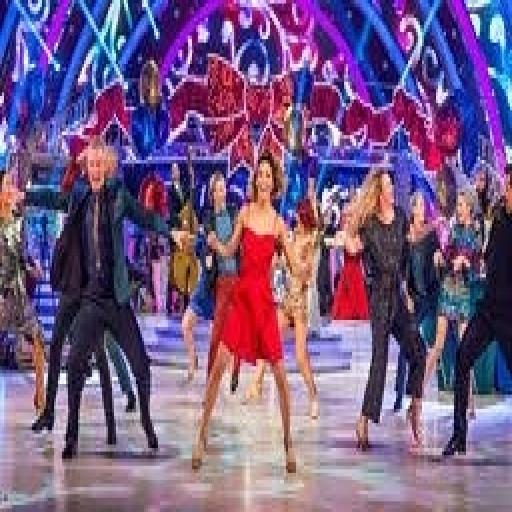dancing: (188, 146, 304, 480)
